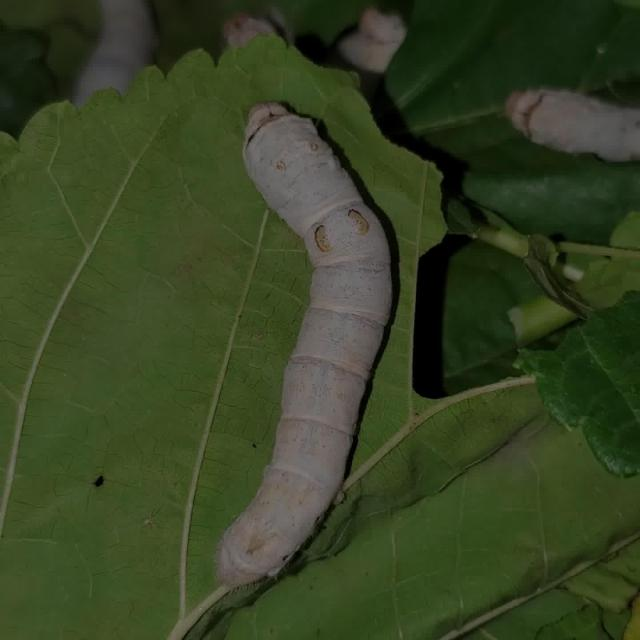Healthy: (200, 94, 402, 596)
